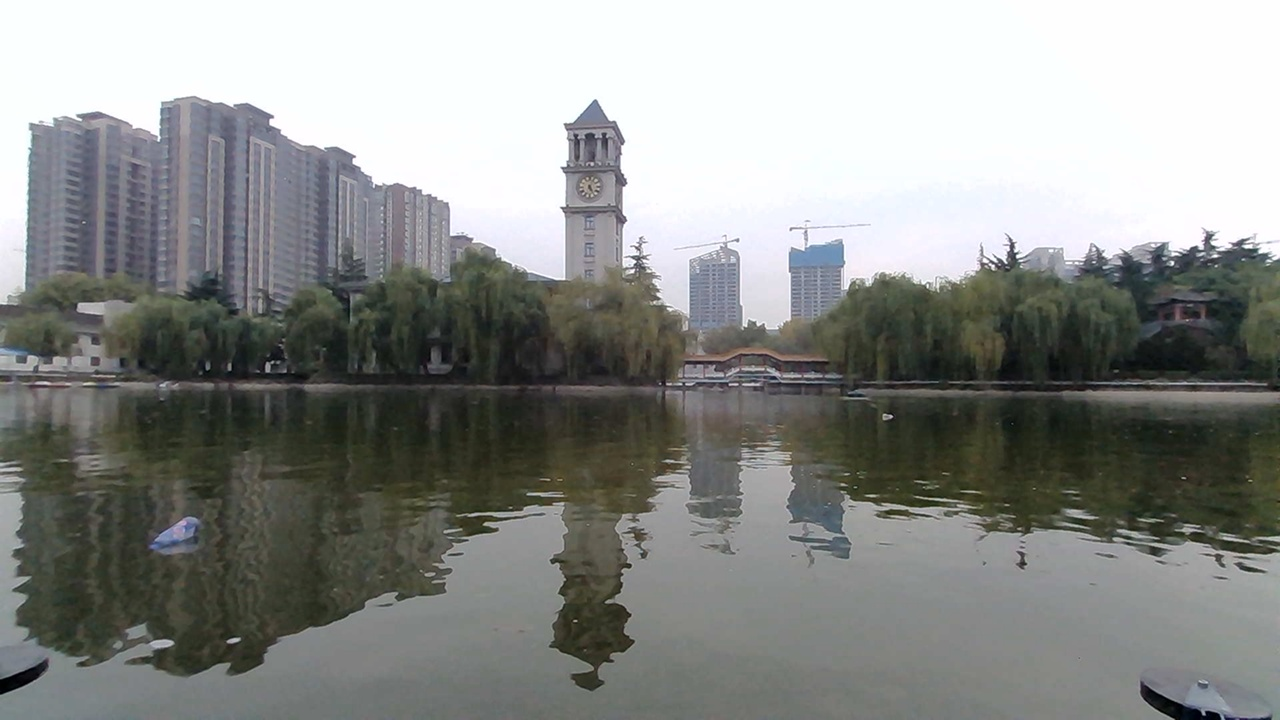bottle: (142, 514, 220, 561), (865, 405, 911, 429)
